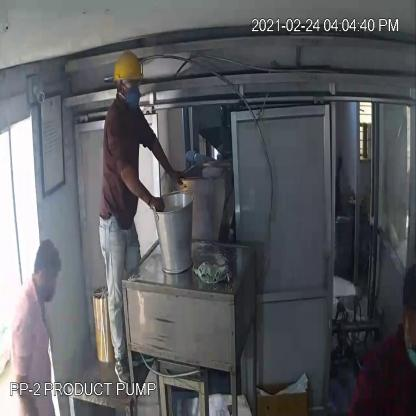helmet: (110, 46, 148, 85)
